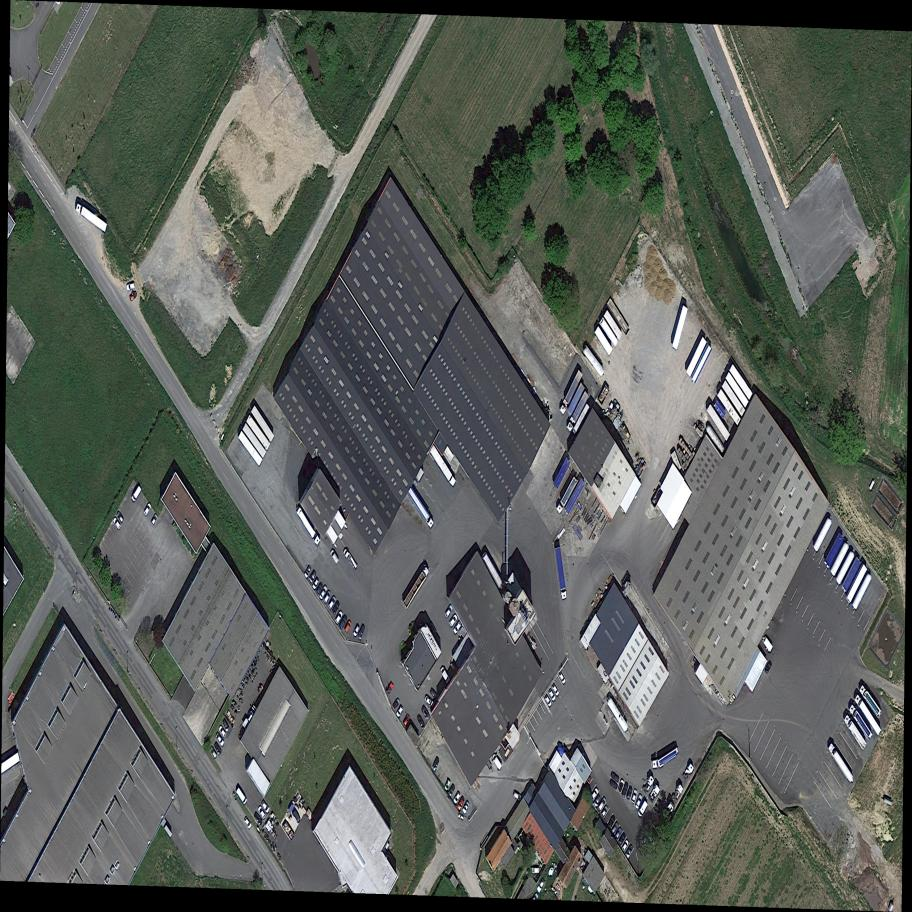large-vehicle: (398, 563, 432, 613), (425, 443, 460, 489), (404, 485, 438, 532), (852, 693, 883, 737), (71, 201, 111, 235), (293, 505, 323, 548), (827, 744, 856, 784), (559, 369, 584, 415), (565, 391, 591, 433), (684, 336, 709, 379), (689, 342, 714, 385), (841, 713, 869, 750), (847, 704, 875, 741), (605, 298, 631, 337), (715, 389, 743, 425), (555, 474, 580, 514), (705, 404, 732, 441), (580, 344, 608, 379), (724, 372, 751, 408), (728, 364, 755, 399), (721, 380, 747, 416), (845, 564, 869, 603), (563, 478, 587, 516), (858, 683, 884, 718), (647, 746, 682, 771), (823, 531, 846, 568), (671, 305, 689, 352), (834, 550, 856, 585), (812, 517, 833, 553), (841, 556, 862, 592), (851, 573, 872, 609), (830, 541, 851, 576), (597, 317, 620, 348), (566, 382, 586, 417), (601, 310, 624, 340), (592, 326, 615, 355), (339, 545, 361, 574), (555, 548, 567, 600), (552, 457, 572, 488), (667, 780, 687, 807), (645, 780, 664, 806), (640, 772, 658, 796), (680, 761, 698, 784), (635, 799, 650, 819), (596, 796, 608, 812)
small-vehicle: (233, 786, 250, 807), (437, 664, 453, 685), (441, 602, 457, 621), (128, 485, 144, 504), (341, 616, 355, 637), (446, 611, 461, 630), (306, 566, 320, 586), (336, 611, 350, 631), (328, 547, 342, 566), (605, 812, 619, 831), (110, 514, 124, 532), (490, 753, 504, 771), (422, 694, 438, 709), (113, 508, 127, 525), (213, 731, 227, 748), (259, 798, 273, 815), (255, 804, 269, 821), (251, 810, 265, 827), (608, 819, 622, 836), (301, 563, 314, 581), (607, 769, 623, 783), (605, 777, 621, 791), (541, 691, 554, 708), (545, 686, 558, 703), (549, 681, 562, 698), (419, 704, 432, 721), (598, 802, 611, 818), (389, 696, 402, 712), (428, 686, 441, 702), (241, 815, 254, 831), (616, 830, 628, 847), (415, 713, 427, 730), (619, 836, 631, 853), (623, 842, 635, 859), (317, 584, 329, 601), (326, 594, 338, 611), (330, 599, 342, 616), (634, 790, 644, 810), (620, 779, 630, 799), (430, 755, 441, 773), (221, 716, 232, 734), (356, 623, 367, 641), (310, 575, 322, 591), (556, 670, 568, 686), (589, 786, 601, 802), (613, 825, 625, 841), (400, 713, 412, 729), (451, 620, 463, 636), (455, 795, 466, 812), (213, 740, 224, 757), (142, 501, 153, 518), (126, 290, 140, 303), (616, 776, 626, 794), (763, 659, 774, 675), (314, 580, 325, 596), (592, 793, 603, 809), (394, 704, 405, 720), (149, 511, 160, 527), (322, 589, 333, 605), (630, 786, 639, 805), (216, 724, 228, 738), (446, 783, 457, 798), (333, 610, 344, 625), (626, 782, 634, 802), (208, 745, 219, 759), (461, 800, 471, 815), (511, 791, 524, 802), (124, 282, 137, 293), (452, 791, 462, 805), (352, 624, 361, 639), (443, 778, 452, 792)
